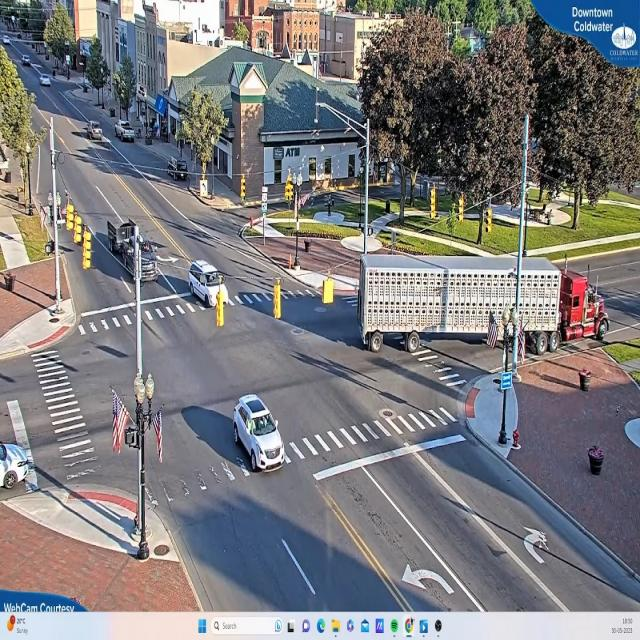car: (234, 396, 288, 474), (190, 255, 230, 308), (0, 443, 38, 490), (124, 234, 159, 282), (117, 121, 137, 145)
truck: (361, 254, 608, 362)
